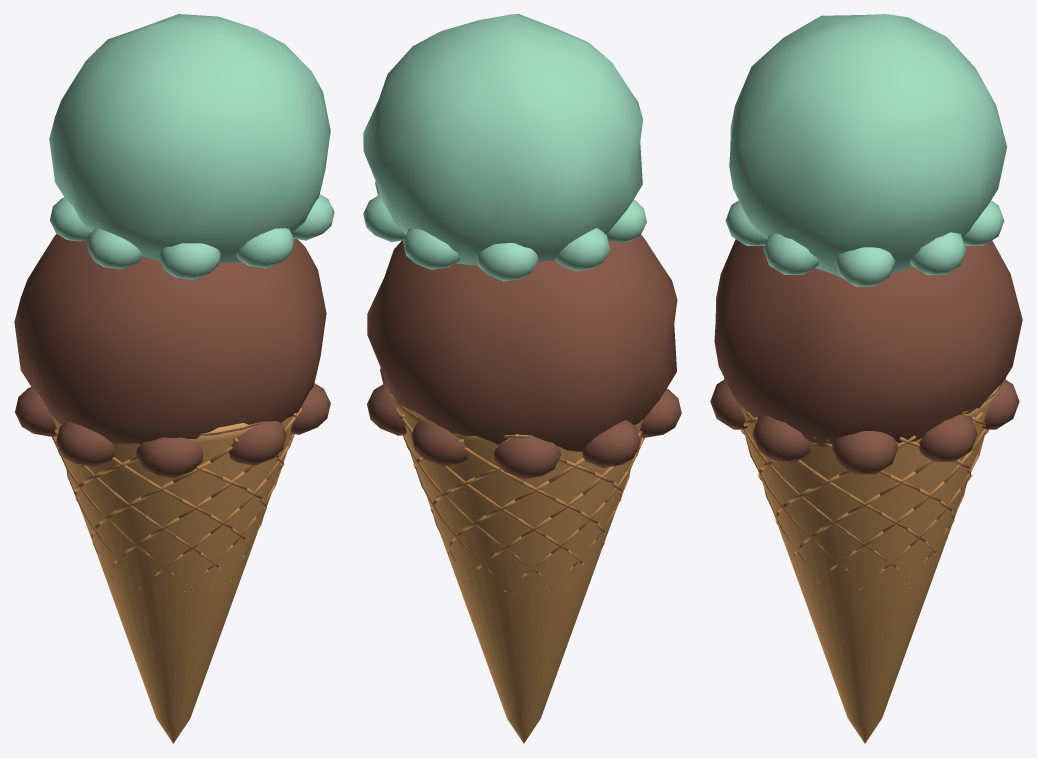
File: Two_scoop_cone.fbx
3 views of the same model, side by side, from view 1: azimuth 30°, elevation 25°; view 2: azimuth 150°, elevation 25°; view 3: azimuth 270°, elevation 25° (orthographic). The views are drawn at different scales.
Visible parts, largest first — view 1: Toon_Two_scoop_cone Mint scoop.001, Toon_Two_scoop_cone Chocolate scoop.001, Toon_Two_scoop_cone Waffle cone.001, Toon_Two_scoop_cone Ruffled scoop edge.024, Toon_Two_scoop_cone Ruffled scoop edge.023, Toon_Two_scoop_cone Ruffled scoop edge.025, Toon_Two_scoop_cone Ruffled scoop edge.033, Toon_Two_scoop_cone Ruffled scoop edge.034, Toon_Two_scoop_cone Ruffled scoop edge.032, Toon_Two_scoop_cone Ruffled scoop edge.022, Toon_Two_scoop_cone Ruffled scoop edge.026, Toon_Two_scoop_cone Ruffled scoop edge.031 (+1 smaller); view 2: Toon_Two_scoop_cone Mint scoop.001, Toon_Two_scoop_cone Chocolate scoop.001, Toon_Two_scoop_cone Waffle cone.001, Toon_Two_scoop_cone Ruffled scoop edge.021, Toon_Two_scoop_cone Ruffled scoop edge.022, Toon_Two_scoop_cone Ruffled scoop edge.030, Toon_Two_scoop_cone Ruffled scoop edge.020, Toon_Two_scoop_cone Ruffled scoop edge.029, Toon_Two_scoop_cone Ruffled scoop edge.031, Toon_Two_scoop_cone Ruffled scoop edge.023, Toon_Two_scoop_cone Ruffled scoop edge.019, Toon_Two_scoop_cone Ruffled scoop edge.028 (+1 smaller); view 3: Toon_Two_scoop_cone Mint scoop.001, Toon_Two_scoop_cone Chocolate scoop.001, Toon_Two_scoop_cone Waffle cone.001, Toon_Two_scoop_cone Ruffled scoop edge.018, Toon_Two_scoop_cone Ruffled scoop edge.019, Toon_Two_scoop_cone Ruffled scoop edge.026, Toon_Two_scoop_cone Ruffled scoop edge.027, Toon_Two_scoop_cone Ruffled scoop edge.028, Toon_Two_scoop_cone Ruffled scoop edge.035, Toon_Two_scoop_cone Ruffled scoop edge.029, Toon_Two_scoop_cone Ruffled scoop edge.020, Toon_Two_scoop_cone Ruffled scoop edge.025 (+1 smaller).
Boxes of the visible parts, <box> form: Toon_Two_scoop_cone Mint scoop.001: <box>49,14,330,263</box>; Toon_Two_scoop_cone Chocolate scoop.001: <box>14,234,326,443</box>; Toon_Two_scoop_cone Waffle cone.001: <box>52,416,293,743</box>; Toon_Two_scoop_cone Ruffled scoop edge.024: <box>136,437,203,478</box>; Toon_Two_scoop_cone Ruffled scoop edge.023: <box>56,421,114,466</box>; Toon_Two_scoop_cone Ruffled scoop edge.025: <box>229,421,286,465</box>; Toon_Two_scoop_cone Ruffled scoop edge.033: <box>159,243,220,279</box>; Toon_Two_scoop_cone Ruffled scoop edge.034: <box>236,228,294,268</box>; Toon_Two_scoop_cone Ruffled scoop edge.032: <box>87,229,142,269</box>; Toon_Two_scoop_cone Ruffled scoop edge.022: <box>15,387,56,436</box>; Toon_Two_scoop_cone Ruffled scoop edge.026: <box>291,383,330,434</box>; Toon_Two_scoop_cone Ruffled scoop edge.031: <box>49,197,90,241</box>; Toon_Two_scoop_cone Mint scoop.001: <box>363,14,642,265</box>; Toon_Two_scoop_cone Chocolate scoop.001: <box>367,235,677,451</box>; Toon_Two_scoop_cone Waffle cone.001: <box>392,397,643,743</box>; Toon_Two_scoop_cone Ruffled scoop edge.021: <box>493,437,561,479</box>; Toon_Two_scoop_cone Ruffled scoop edge.022: <box>582,420,640,467</box>; Toon_Two_scoop_cone Ruffled scoop edge.030: <box>476,243,538,281</box>; Toon_Two_scoop_cone Ruffled scoop edge.020: <box>411,421,468,466</box>; Toon_Two_scoop_cone Ruffled scoop edge.029: <box>403,228,460,269</box>; Toon_Two_scoop_cone Ruffled scoop edge.031: <box>555,228,609,271</box>; Toon_Two_scoop_cone Ruffled scoop edge.023: <box>640,389,681,437</box>; Toon_Two_scoop_cone Ruffled scoop edge.019: <box>367,383,406,435</box>; Toon_Two_scoop_cone Ruffled scoop edge.028: <box>363,195,405,242</box>; Toon_Two_scoop_cone Mint scoop.001: <box>729,14,1006,276</box>; Toon_Two_scoop_cone Chocolate scoop.001: <box>714,239,1022,447</box>; Toon_Two_scoop_cone Waffle cone.001: <box>739,386,998,743</box>; Toon_Two_scoop_cone Ruffled scoop edge.018: <box>832,431,897,474</box>; Toon_Two_scoop_cone Ruffled scoop edge.019: <box>919,414,977,461</box>; Toon_Two_scoop_cone Ruffled scoop edge.026: <box>752,416,810,461</box>; Toon_Two_scoop_cone Ruffled scoop edge.027: <box>834,247,895,286</box>; Toon_Two_scoop_cone Ruffled scoop edge.028: <box>910,232,966,274</box>; Toon_Two_scoop_cone Ruffled scoop edge.035: <box>763,233,818,274</box>; Toon_Two_scoop_cone Ruffled scoop edge.029: <box>962,200,1004,245</box>; Toon_Two_scoop_cone Ruffled scoop edge.020: <box>982,379,1019,429</box>; Toon_Two_scoop_cone Ruffled scoop edge.025: <box>710,379,747,429</box>.
Bounding box in the file's own units: 13.14 × 31.88 × 12.42.
